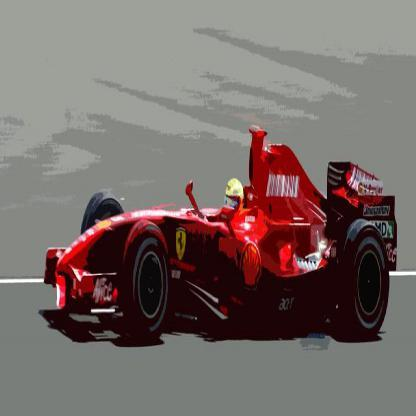car: (37, 132, 400, 348)
